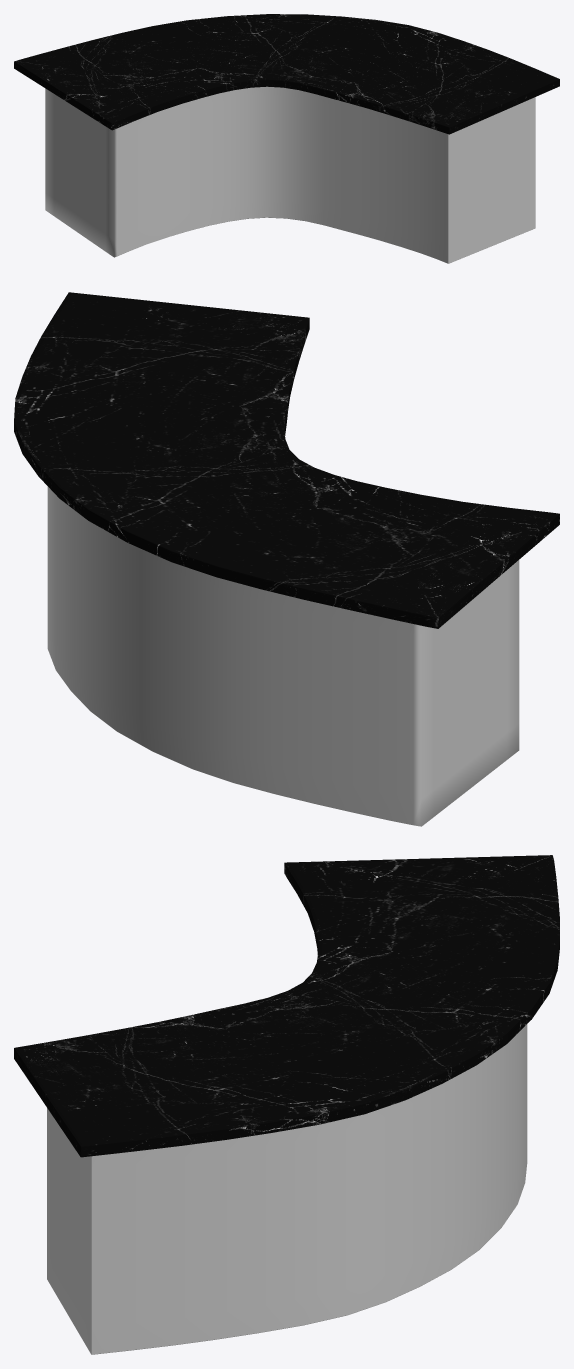
File: Reception_table.fbx
3 renders of one model, top to bottom at view 1: azimuth 30°, elevation 25°; view 2: azimuth 150°, elevation 25°; view 3: azimuth 270°, elevation 25°, orthographic. The views are drawn at different scales.
Parts seen in each view (by area): view 1: Reception_table; view 2: Reception_table; view 3: Reception_table.
Part boxes in pixels (box(x1,y1,x2,y2)): Reception_table: box(14, 14, 559, 263); Reception_table: box(14, 292, 559, 826); Reception_table: box(14, 855, 559, 1354).
Bounding box in the file's own units: 100 × 36 × 79.46.
2 materials, 1 textured.
